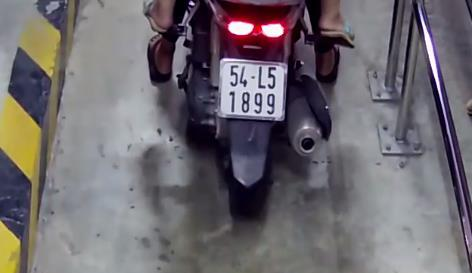lisence: (219, 57, 285, 122)
